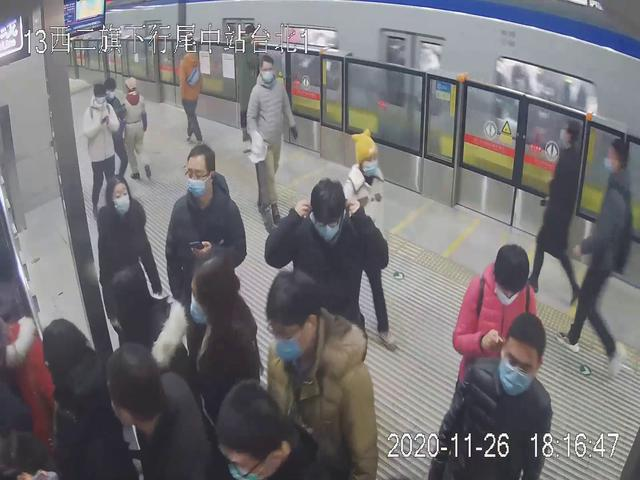person: (267, 178, 369, 442), (258, 269, 372, 480), (163, 146, 246, 401), (173, 257, 260, 480), (562, 130, 640, 371), (458, 241, 533, 480), (96, 174, 165, 414), (450, 315, 546, 480), (332, 121, 400, 345), (534, 107, 588, 307), (242, 54, 294, 241), (169, 38, 208, 149), (82, 84, 113, 208), (122, 75, 156, 184)
